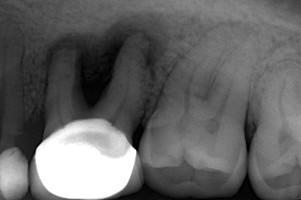Dental Caries: (43, 12, 172, 108)
